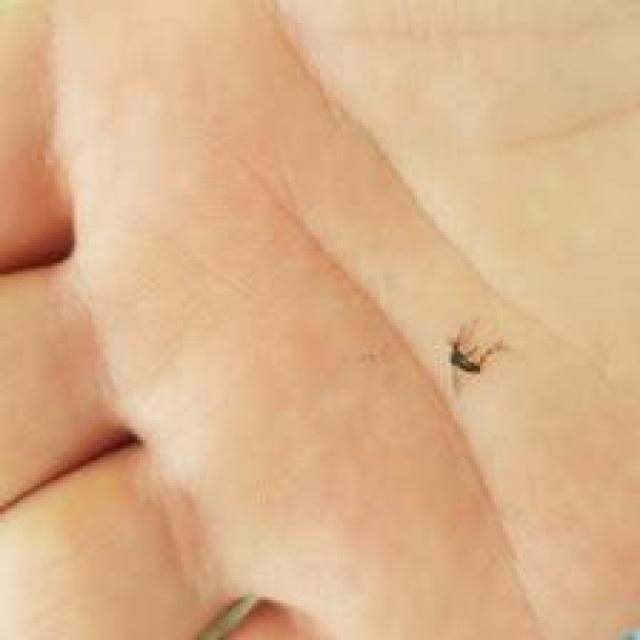Aedes albopictus: (440, 317, 509, 392)
